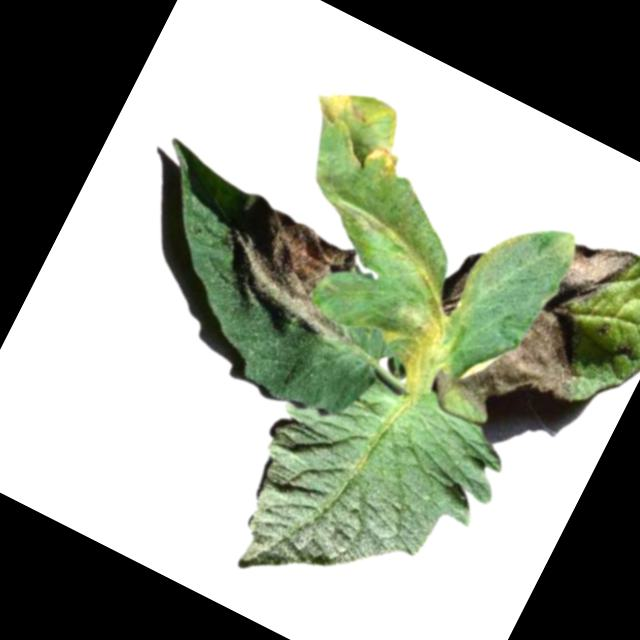Late_blight: (450, 208, 640, 443), (201, 187, 379, 348), (295, 72, 425, 187), (370, 280, 467, 382), (429, 242, 488, 323), (426, 366, 460, 405)
